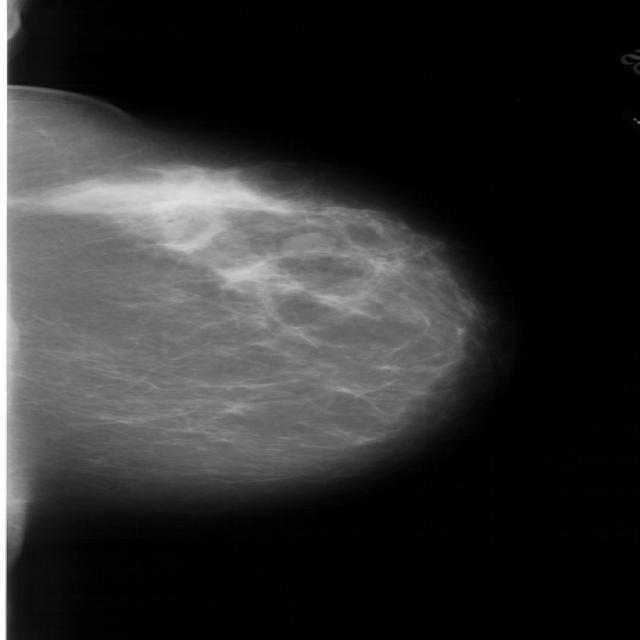tumour: (276, 230, 333, 259)
